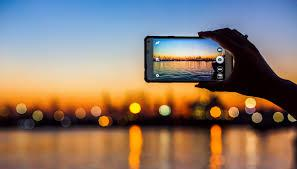Hand: (200, 28, 263, 92)
Smartphone: (143, 37, 230, 78)
